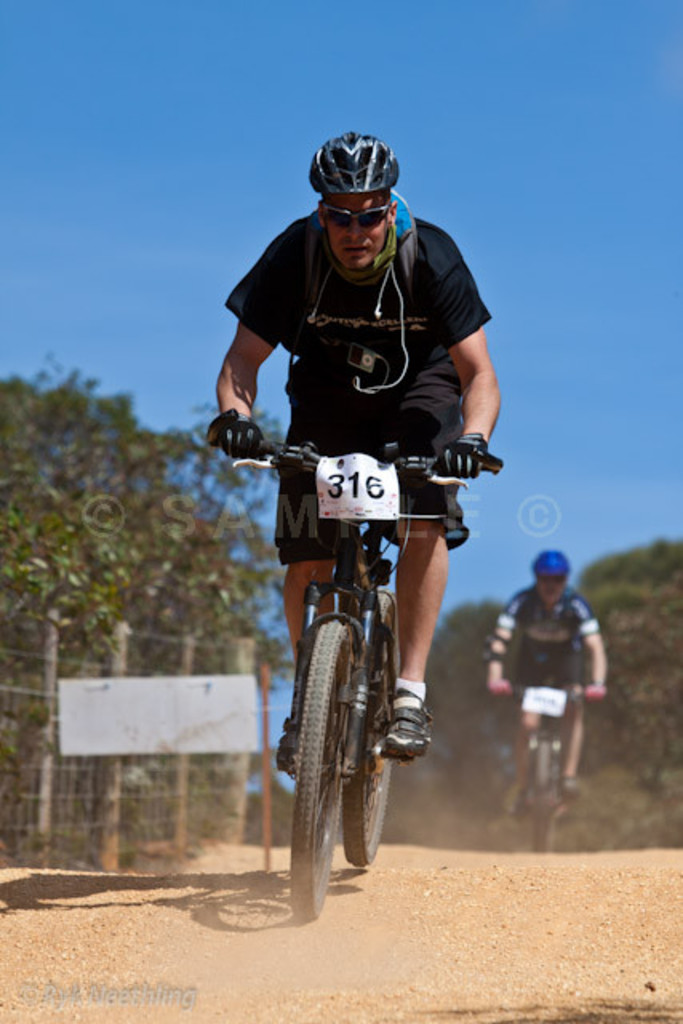Bike_toward: (207, 427, 505, 918), (509, 683, 608, 858)
